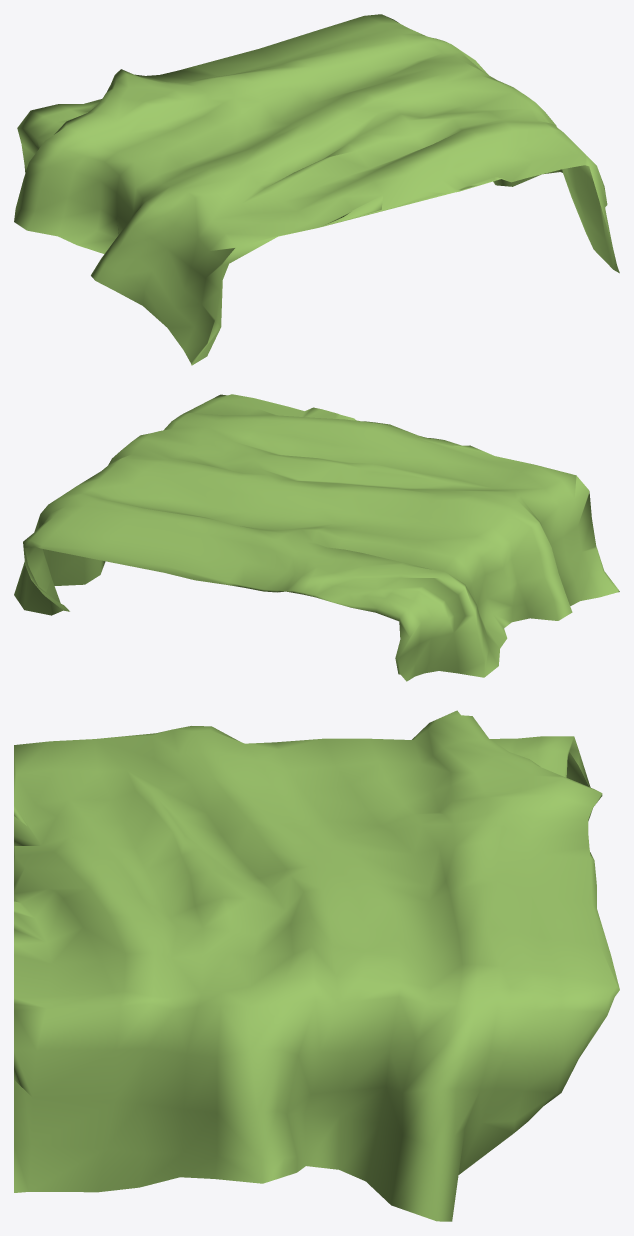
The model's file is mesh94__1f19c920_ce5a_3842_bb2a_e70101ab46c6__0_lev1.glb.
The picture shows the model from 3 angles, top to bottom: view 1: azimuth 30°, elevation 25°; view 2: azimuth 150°, elevation 25°; view 3: azimuth 270°, elevation 25°; orthographic projection. The views are drawn at different scales.
Parts seen in each view (by area): view 1: mesh94__1f19c920_ce5a_3842_bb2a_e70101ab46c6__0_lev1; view 2: mesh94__1f19c920_ce5a_3842_bb2a_e70101ab46c6__0_lev1; view 3: mesh94__1f19c920_ce5a_3842_bb2a_e70101ab46c6__0_lev1.
Part boxes in pixels (left/top/right/bottom): mesh94__1f19c920_ce5a_3842_bb2a_e70101ab46c6__0_lev1: left=14, top=14, right=619, bottom=365; mesh94__1f19c920_ce5a_3842_bb2a_e70101ab46c6__0_lev1: left=14, top=394, right=619, bottom=681; mesh94__1f19c920_ce5a_3842_bb2a_e70101ab46c6__0_lev1: left=14, top=710, right=619, bottom=1221.
Bounding box in the file's own units: 19.34 × 5.54 × 14.1.
